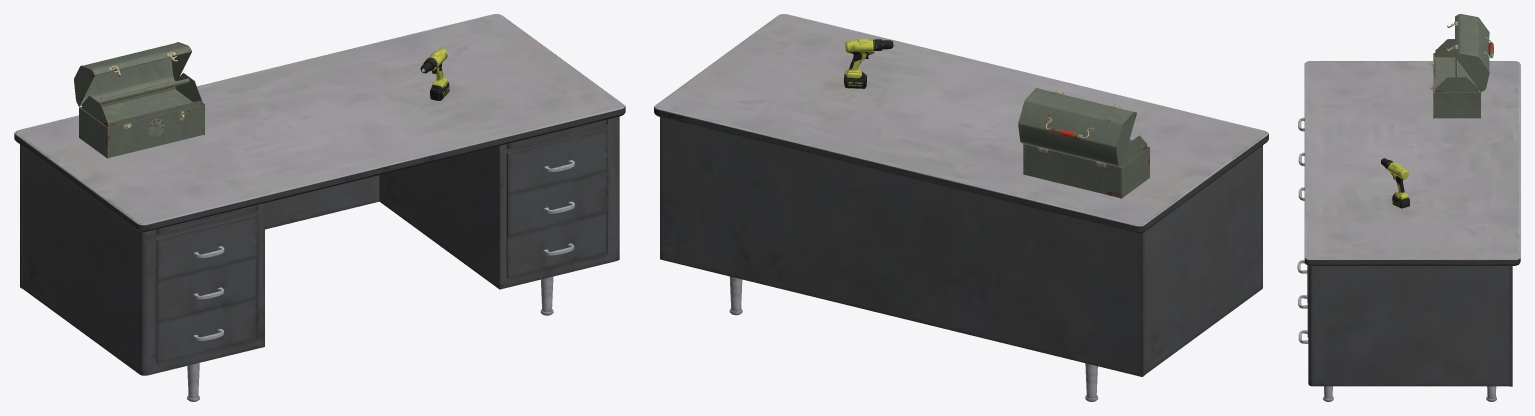
The model's file is workbench_metal_desk.glb.
3 views of the same model, side by side, from view 1: azimuth 30°, elevation 25°; view 2: azimuth 150°, elevation 25°; view 3: azimuth 270°, elevation 25° (orthographic). The views are drawn at different scales.
Visible parts, largest first — view 1: metal_office_desk_drawer_06, metal_toolbox, Drill_01; view 2: metal_office_desk_drawer_06, metal_toolbox, Drill_01; view 3: metal_office_desk_drawer_06, metal_toolbox, Drill_01.
Part boxes in pixels (box(x1,y1,x2,y2)): metal_office_desk_drawer_06: box(14, 14, 625, 401); metal_toolbox: box(74, 42, 204, 158); Drill_01: box(420, 48, 449, 100); metal_office_desk_drawer_06: box(654, 14, 1268, 401); metal_toolbox: box(1018, 88, 1149, 198); Drill_01: box(843, 38, 895, 88); metal_office_desk_drawer_06: box(1297, 61, 1520, 401); metal_toolbox: box(1430, 14, 1493, 118); Drill_01: box(1381, 158, 1409, 208).
Size of the model in its own units: 2 by 1.09 by 0.9471.
Materials: 3 (3 with a texture image).
